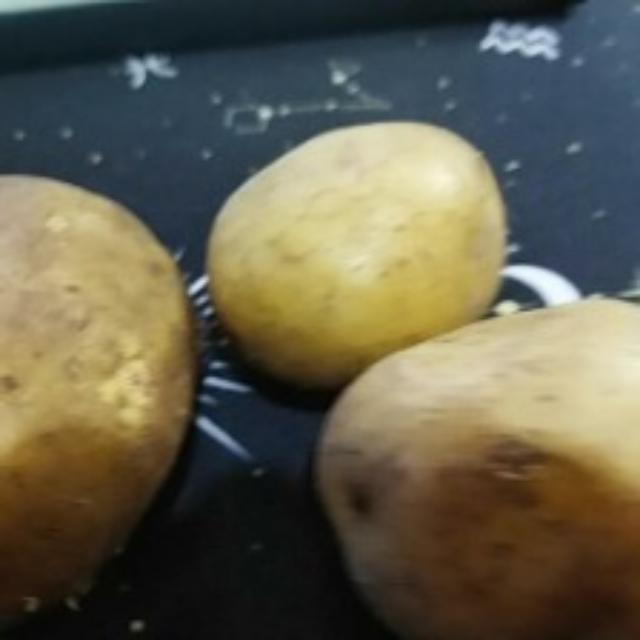Damaged potato: (318, 302, 640, 638), (0, 167, 198, 628)
Potato: (207, 115, 518, 383)
